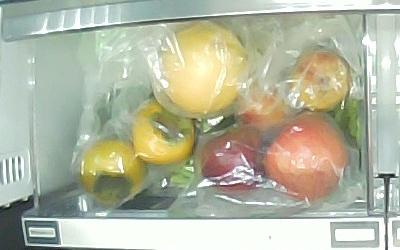apple_vinyl: (264, 111, 350, 200), (201, 127, 266, 192)
grapefruit_vinyl: (160, 21, 249, 114)
persimmon_vinyl: (80, 138, 149, 206), (133, 98, 196, 164)
prune_vinyl: (290, 50, 349, 112)
